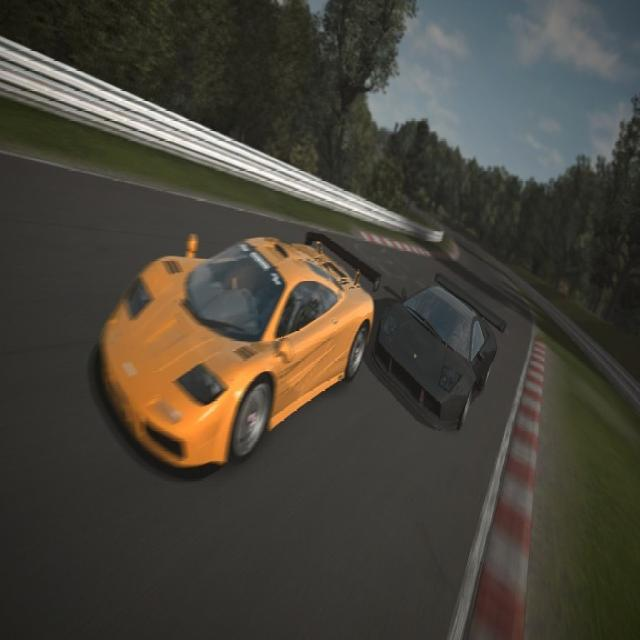car: (94, 234, 373, 469), (370, 265, 508, 423)
